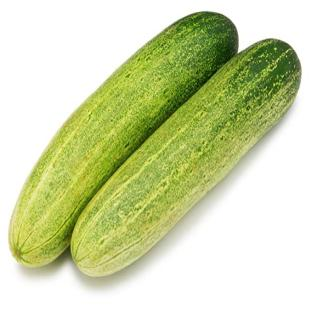Cucumber: (10, 13, 238, 266), (71, 40, 300, 275)
